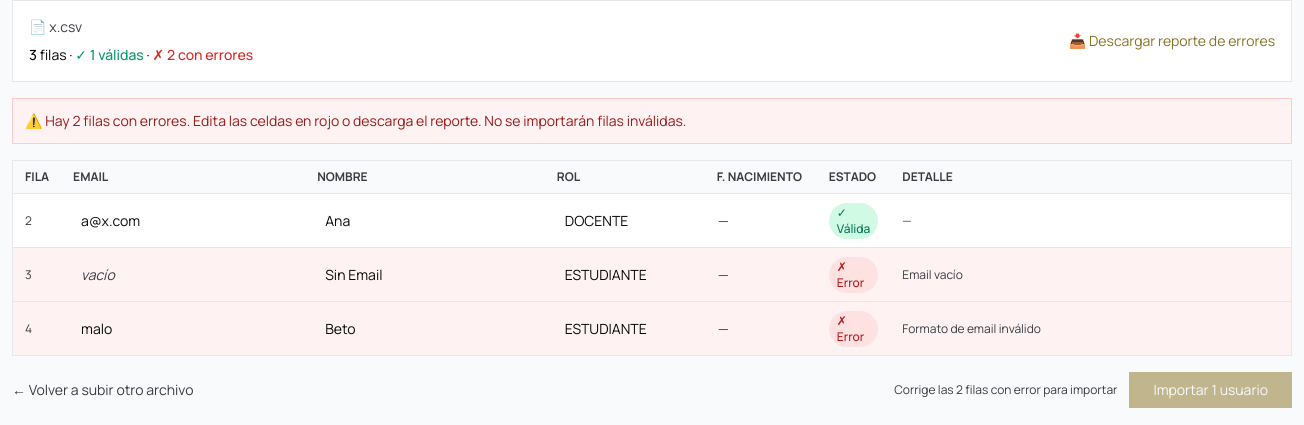
Test: CsvPreviewTable › H7 — dblclick en celda email abre input con autoFocus y el valor actual
This screenshot has width=1304, height=425.
Double-click the cell with test id "celda-email-2" at [111, 220], box [61,194,305,248]
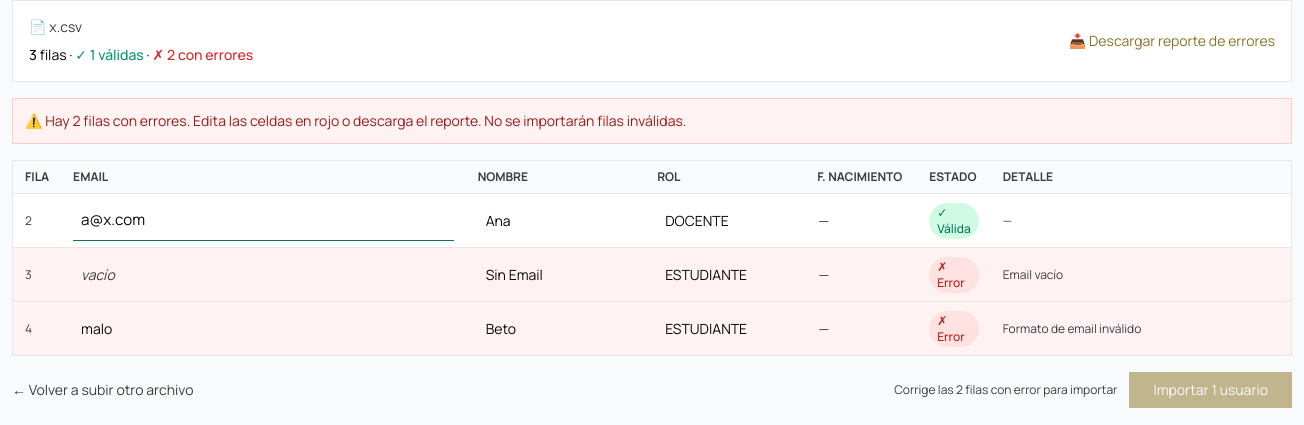
Expected: the field holds "a@x.com", [73,200,454,241]
